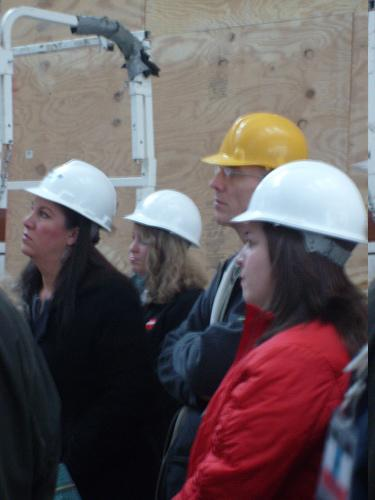helmet: (225, 145, 370, 314), (205, 100, 331, 253), (11, 151, 128, 288), (116, 177, 215, 297)
person: (189, 162, 375, 499), (173, 110, 304, 457), (21, 160, 142, 500), (124, 190, 207, 494)
